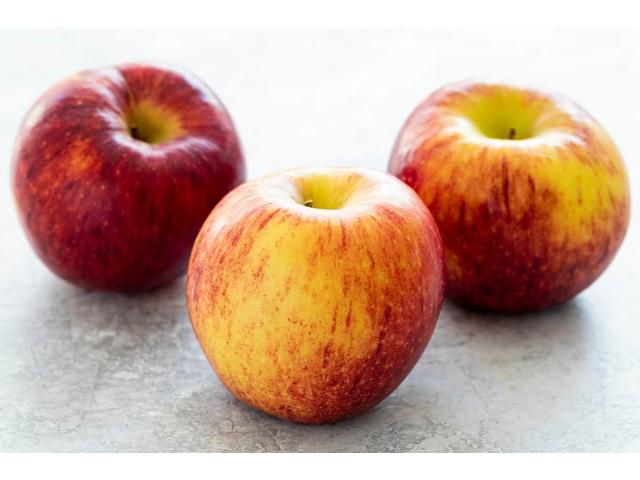red apple: (189, 168, 445, 423), (385, 79, 633, 316), (14, 63, 249, 296)
